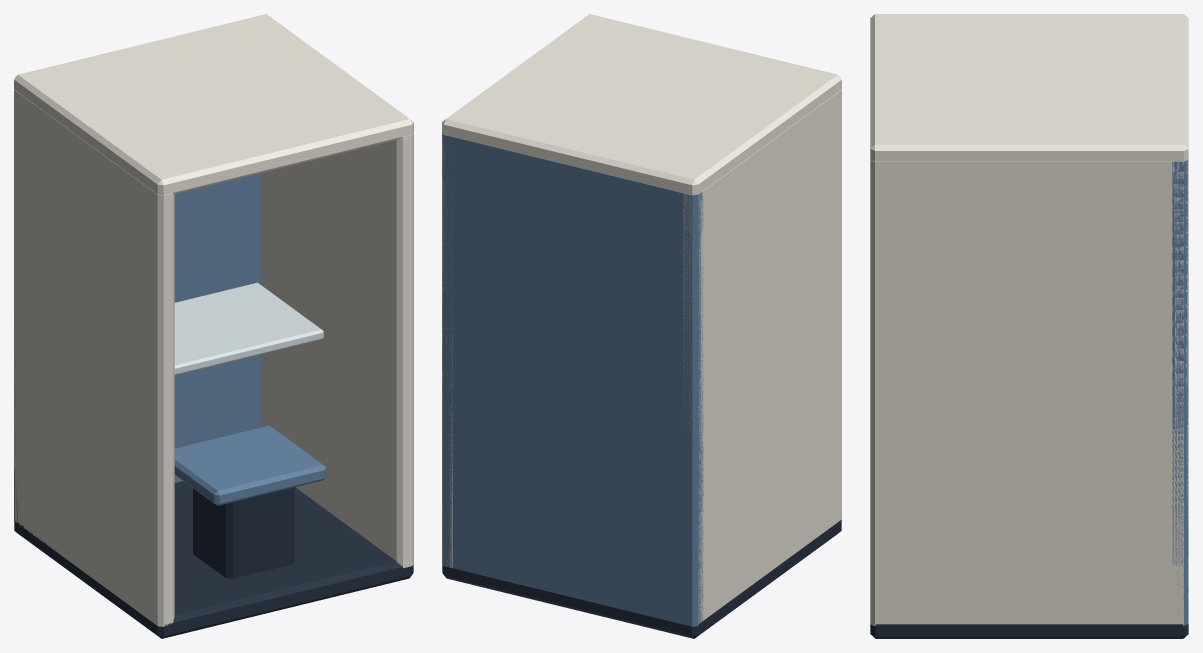
The model's file is campus_03.glb.
3 renders of one model, left to right at view 1: azimuth 30°, elevation 25°; view 2: azimuth 150°, elevation 25°; view 3: azimuth 270°, elevation 25°, orthographic. The views are drawn at different scales.
Parts seen in each view (by area): view 1: PodSide (×2), PodRoof, PodBase, PodBack, PodDesk, PodSeat, SeatPedestal; view 2: PodBack, PodSide (×2), PodRoof, PodBase; view 3: PodSide, PodRoof, PodBack, PodBase.
Part boxes in pixels (bbox=[...]): PodSide (×2): bbox=[14, 89, 413, 626]; PodRoof: bbox=[14, 14, 413, 195]; PodBase: bbox=[14, 481, 413, 638]; PodBack: bbox=[14, 173, 260, 521]; PodDesk: bbox=[174, 282, 323, 375]; PodSeat: bbox=[174, 425, 326, 505]; SeatPedestal: bbox=[193, 487, 294, 578]; PodBack: bbox=[442, 133, 703, 626]; PodSide (×2): bbox=[442, 89, 841, 624]; PodRoof: bbox=[442, 14, 841, 195]; PodBase: bbox=[442, 520, 841, 638]; PodSide: bbox=[870, 159, 1188, 625]; PodRoof: bbox=[870, 14, 1188, 161]; PodBack: bbox=[1172, 160, 1188, 625]; PodBase: bbox=[870, 624, 1188, 638].
Size of the model in its own units: 1.05 by 1.8 by 1.05.
